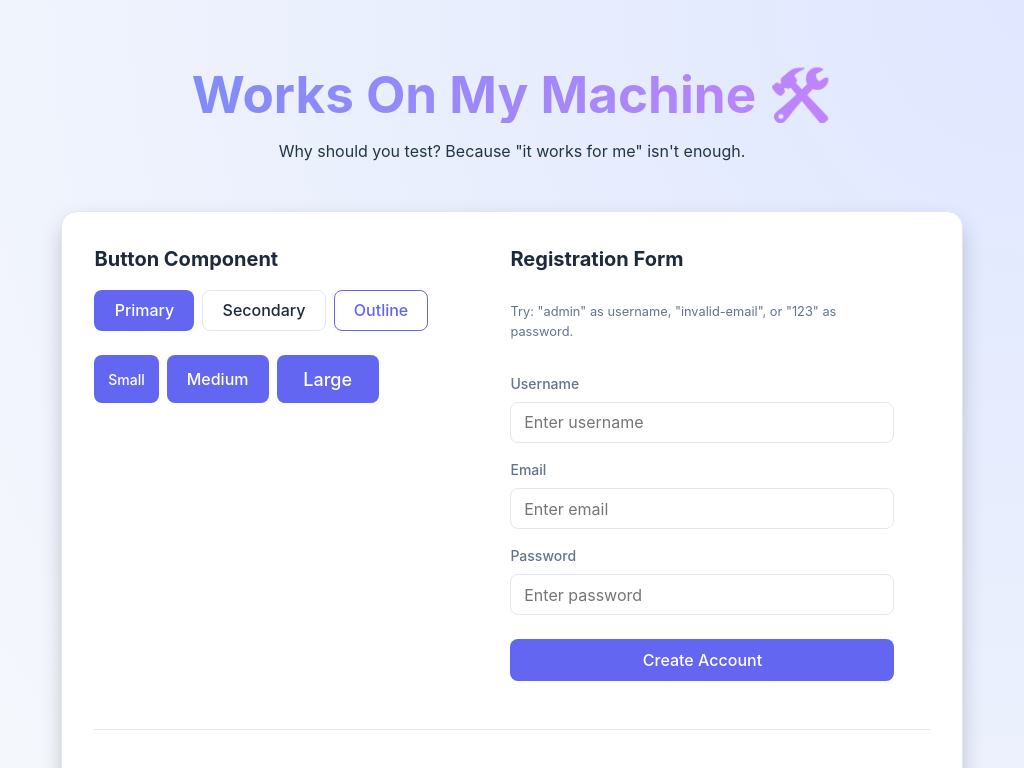
Test case: Home Integration Test › should show validation errors from the Validation Service
The image size is (1024, 768).
Provide invalid email (integrating with real validationService logic)
Type "invalid-email" into the field labelled "Email".
click(702, 509); type("invalid-email")  # box x1=510 y1=488 x2=894 y2=529
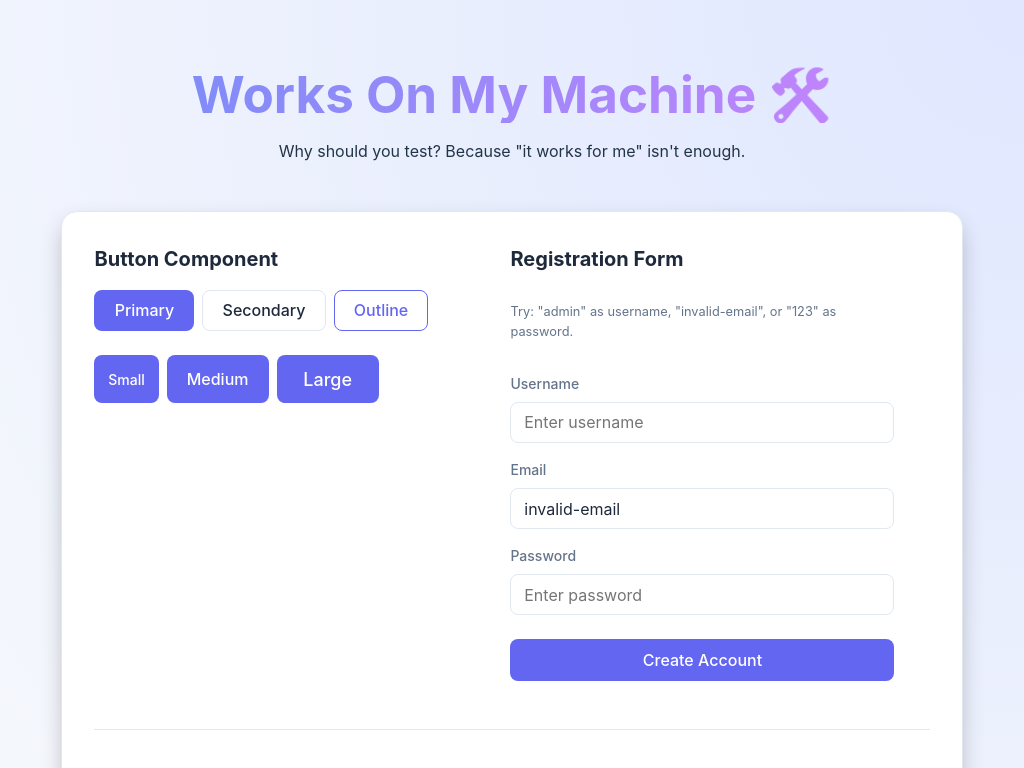
Click the button "Create Account".
click(702, 660)  # box x1=510 y1=639 x2=894 y2=680
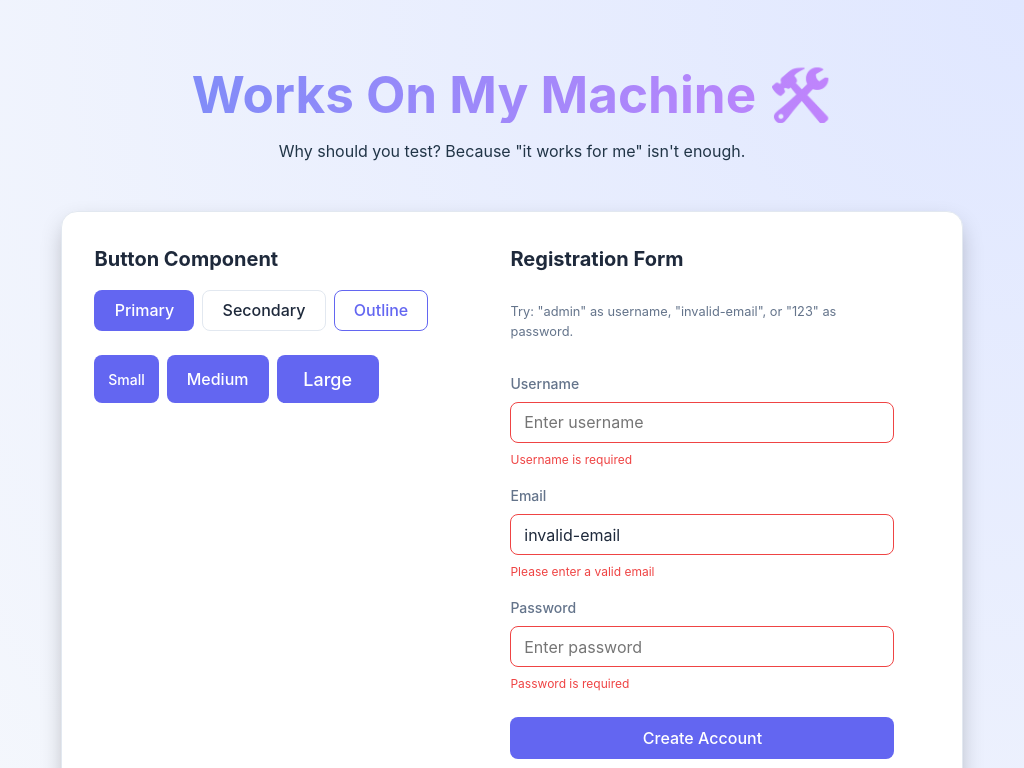
expect the text "Please enter a valid email" is shown: met, box x1=510 y1=564 x2=654 y2=579
